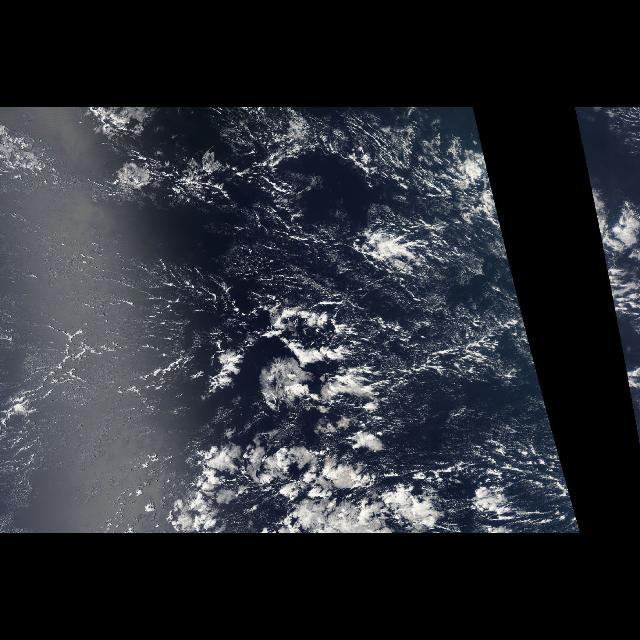Gravel: (256, 134, 492, 430)
Sugar: (3, 196, 235, 448), (364, 256, 566, 504)
